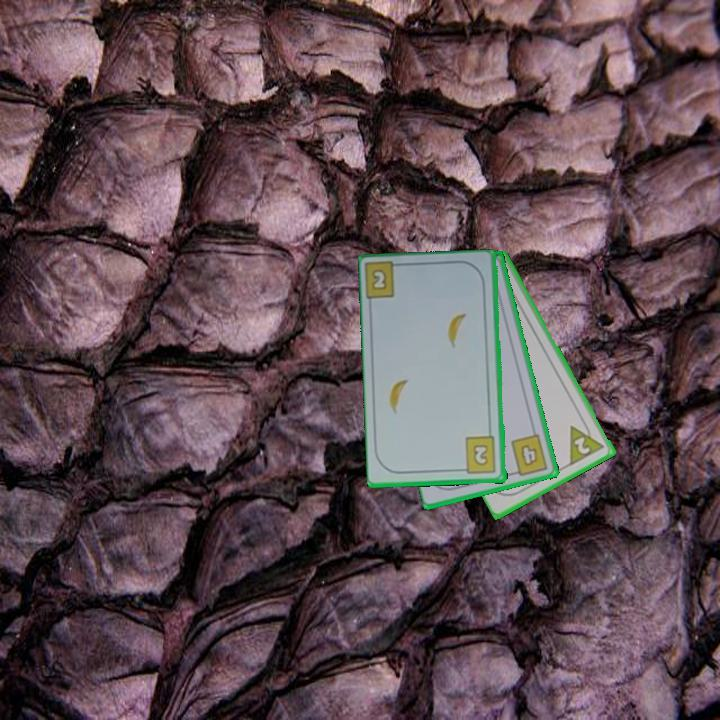2b: (363, 260, 408, 303), (457, 434, 499, 477)
2p: (566, 416, 608, 468)
4b: (508, 430, 551, 478)
